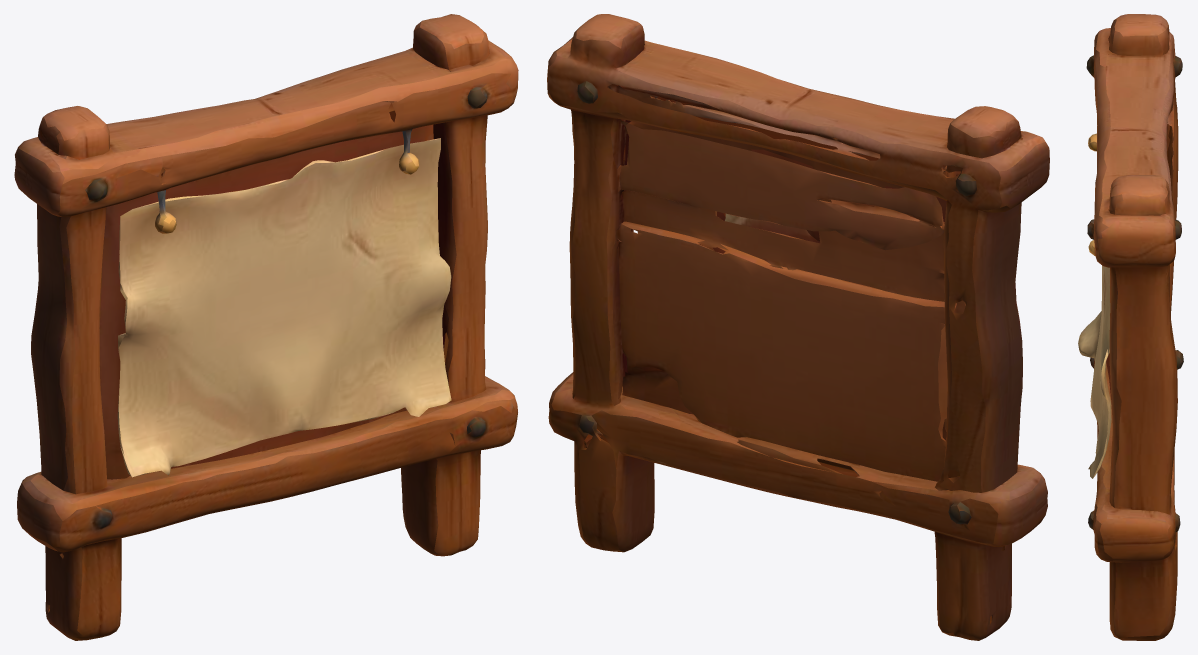
Rendered from a-wooden-notice-board-on-two-pos-fdab5a.glb.
3 renders of one model, left to right at view 1: azimuth 30°, elevation 25°; view 2: azimuth 150°, elevation 25°; view 3: azimuth 270°, elevation 25°, orthographic. The views are drawn at different scales.
Parts seen in each view (by area): view 1: geometry_0; view 2: geometry_0; view 3: geometry_0.
Part boxes in pixels (x1,y1,x2,y2): geometry_0: (14, 14, 518, 640); geometry_0: (547, 14, 1049, 640); geometry_0: (1078, 14, 1183, 640).
Bounding box in the file's own units: 0.9509 × 1 × 0.2096.
Materials: 1 (1 with a texture image).
